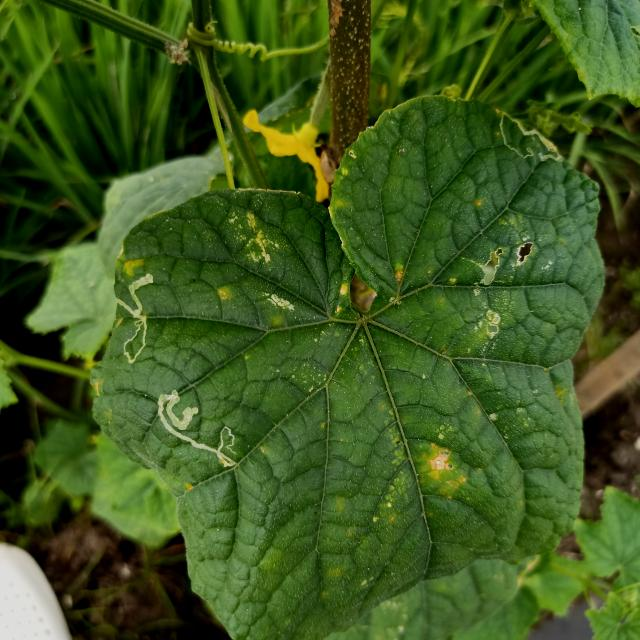disease_cucumber: (463, 238, 532, 348), (231, 212, 288, 266), (418, 438, 466, 497), (259, 288, 302, 319), (112, 254, 145, 282), (330, 280, 352, 318), (90, 375, 108, 401), (392, 263, 409, 286), (215, 286, 232, 304)
